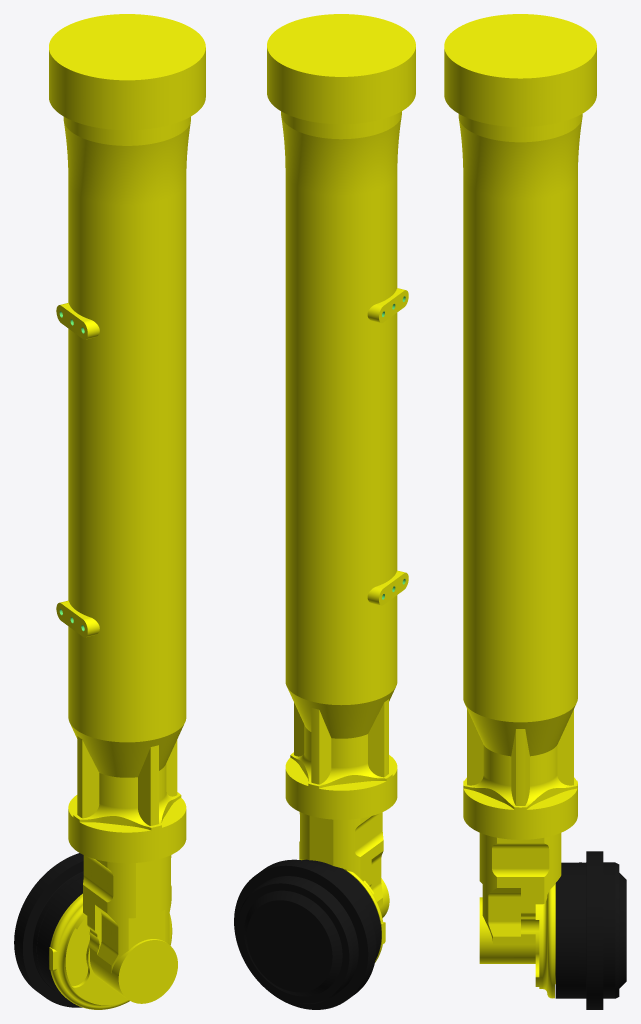
3 views of the same model, side by side, from view 1: azimuth 30°, elevation 25°; view 2: azimuth 150°, elevation 25°; view 3: azimuth 270°, elevation 25° (orthographic). The views are drawn at different scales.
Parts seen in each view (by area): view 1: 45M_S402; view 2: 45M_S402; view 3: 45M_S402.
Part boxes in pixels (x1,y1,x2,y2): 45M_S402: (14,14,205,1009); 45M_S402: (234,14,415,1009); 45M_S402: (444,14,626,1009).
Bounding box in the file's own units: 0.169 × 0.1942 × 1.12.
